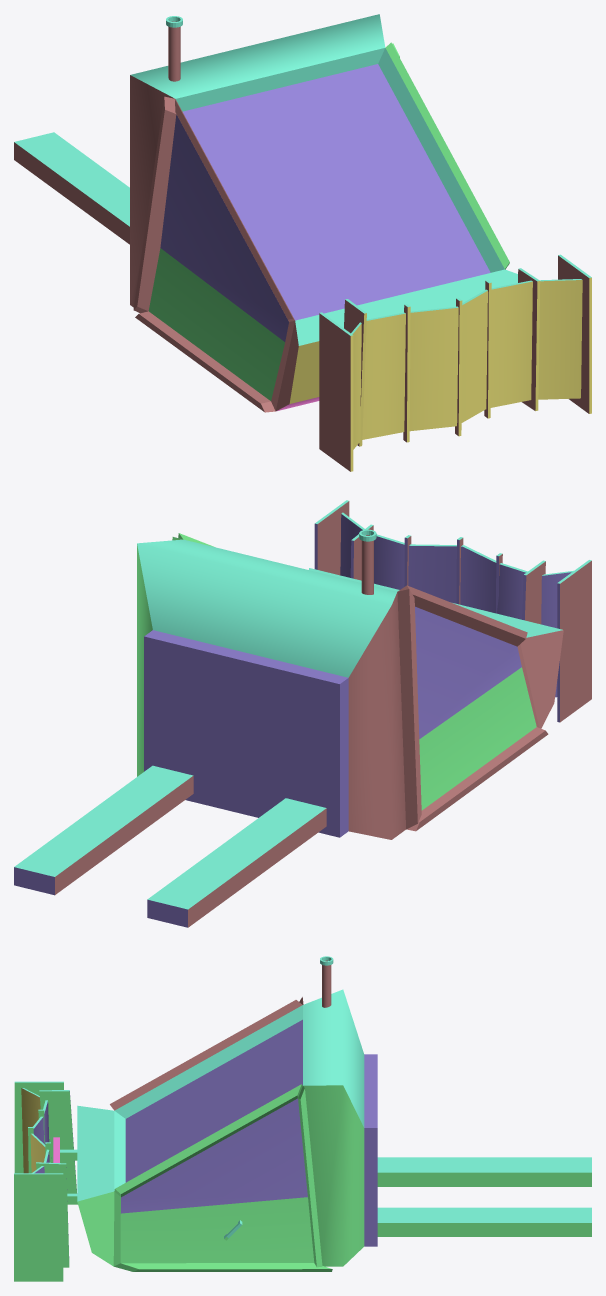
File: carisserieAvant.FBX
The picture shows the model from 3 angles, top to bottom: view 1: azimuth 30°, elevation 25°; view 2: azimuth 150°, elevation 25°; view 3: azimuth 270°, elevation 25°; orthographic projection. The views are drawn at different scales.
Parts seen in each view (by area): view 1: AvantConducteur, defenseAvant, Attache_camion, cheminée; view 2: AvantConducteur, Attache_camion, defenseAvant, cheminée; view 3: AvantConducteur, Attache_camion, defenseAvant, cheminée.
Boxes of the visible parts, x1=… form: AvantConducteur: x1=130, y1=14, x2=517, y2=412; defenseAvant: x1=319, y1=254, x2=591, y2=471; Attache_camion: x1=14, y1=132, x2=129, y2=244; cheminée: x1=166, y1=16, x2=182, y2=81; AvantConducteur: x1=137, y1=533, x2=563, y2=839; Attache_camion: x1=14, y1=765, x2=326, y2=927; defenseAvant: x1=314, y1=500, x2=591, y2=722; cheminée: x1=359, y1=529, x2=376, y2=594; AvantConducteur: x1=77, y1=989, x2=377, y2=1271; Attache_camion: x1=377, y1=1157, x2=591, y2=1236; defenseAvant: x1=14, y1=1081, x2=77, y2=1281; cheminée: x1=320, y1=956, x2=333, y2=1007.
Size of the model in its own units: 365 by 390 by 854.
